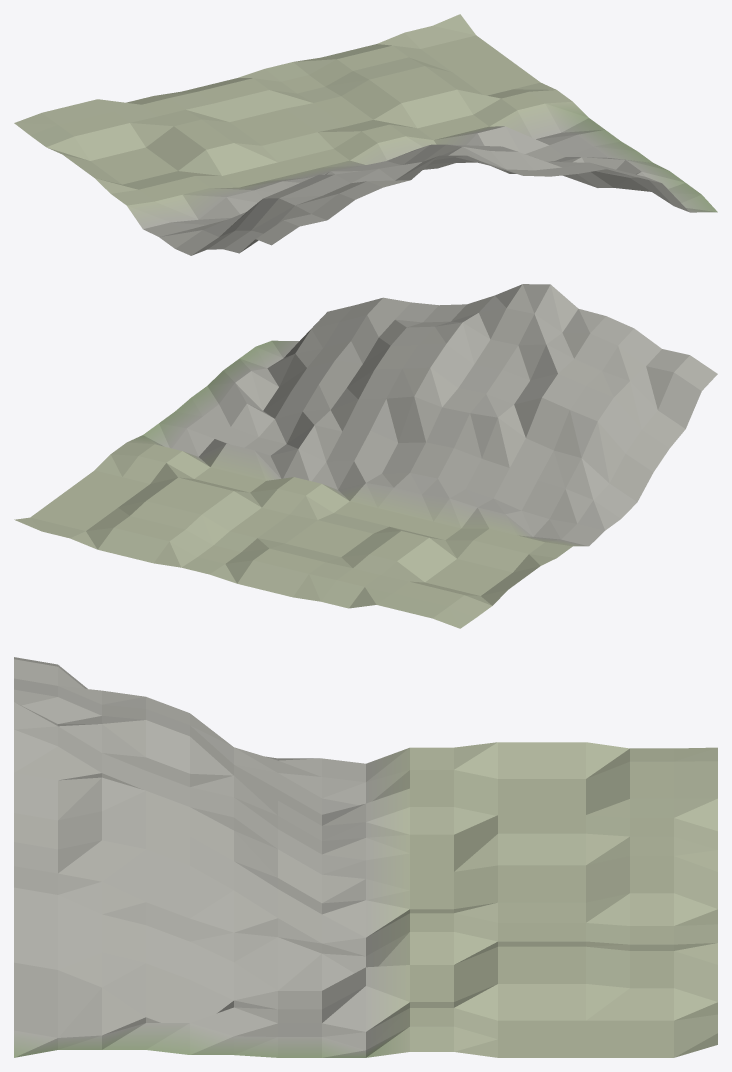
The picture shows the model from 3 angles, top to bottom: view 1: azimuth 30°, elevation 25°; view 2: azimuth 150°, elevation 25°; view 3: azimuth 270°, elevation 25°; orthographic projection. The views are drawn at different scales.
Size of the model in its own units: 32 by 9.29 by 32.
